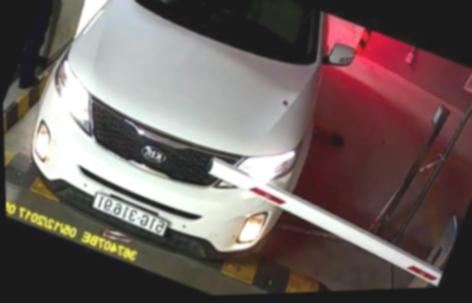License_Plate: (83, 185, 180, 241)
